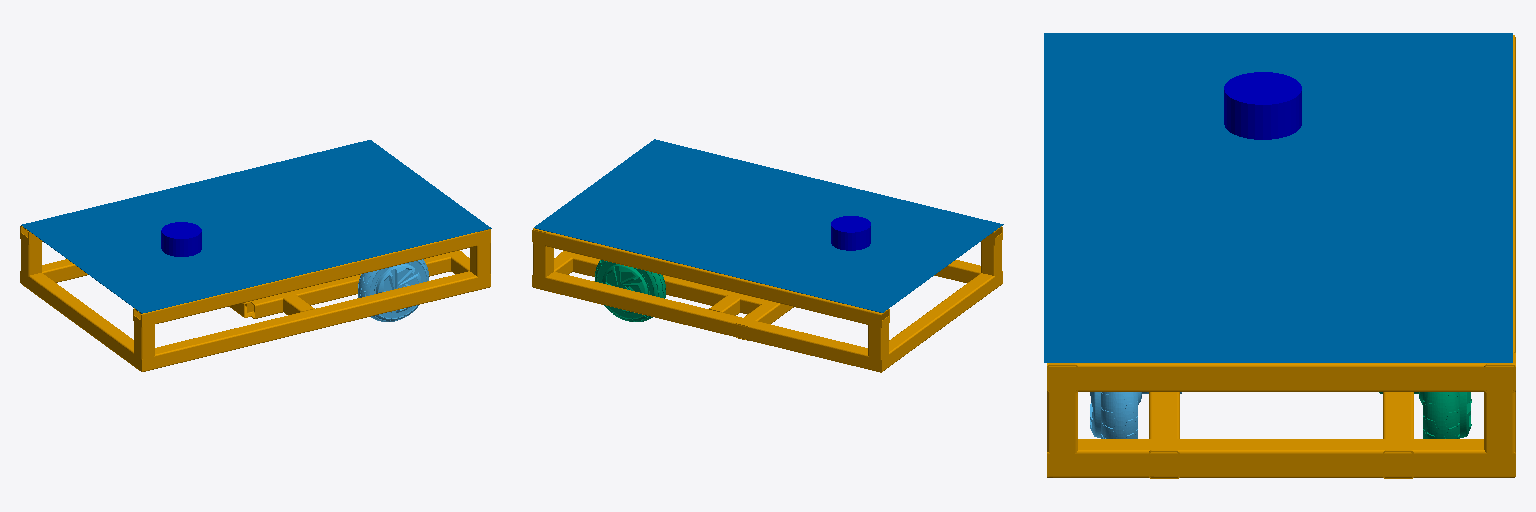
URDF robot description (mobile_robot):
<?xml version="1.0"?>

<robot name="mobile_robot">

<!--   <link name="base_link">
        <visual>
        <origin rpy="0 0 0" xyz="0 0 0"/>
        <geometry>
            <cylinder length="0.02" radius="0.15"/>
        </geometry>
        <material name="yellow">
        	<color rgba="1 1 1 1"/>
        </material>
        </visual>	 -->
<link name="base_link">
    <visual>
      <origin xyz="0 0 0.05" rpy="0 0 0"/>
      <geometry>
        <mesh filename="package://ai/mesh/AMR/Assembly1.stl" scale="0.001 0.001 0.001"/>
      </geometry>
      <!-- <material name="light_black"/> -->
    </visual>

    <collision>
      <origin xyz="0 0 0.05" rpy="0 0 0"/>
      <geometry>
        <mesh filename="package://ai/mesh/AMR/Assembly1.stl" scale="0.001 0.001 0.001"/>
      </geometry>
    </collision>

    <inertial>
      <origin xyz="0 0 0" rpy="0 0 0"/>
      <mass value="15"/>
      <inertia ixx="0.1" ixy="0" ixz="0"
               iyy="0.1" iyz="0"
               izz="0.1" />
    </inertial>
  </link>
<gazebo reference="base_link">
    <material>Gazebo/DarkGrey</material>
  </gazebo>
  <!-- <link name="base_footprint"/>

  <joint name="base_joint" type="fixed">
    <parent link="base_footprint"/>
    <child link="base_link"/>
    <origin xyz="0.0 0.0 0.0" rpy="0 0 0"/>
  </joint> -->

  <link name="wheel_left_link">
    <visual>
      <origin xyz="0 0 0" rpy="0 0 -1.570"/>
      <geometry>
        <mesh filename="package://ai/mesh/AMR/aa.stl" scale="0.001 0.001 0.001"/>
      </geometry>
      <material name="dark"/>
    </visual>

    <collision>
      <origin xyz="0 0 0" rpy="0 0 -1.570"/>
      <geometry>
        <mesh filename="package://ai/mesh/AMR/aa.stl" scale="0.001 0.001 0.001"/>
      </geometry>
    </collision>

    <inertial>
      <origin xyz="0 0 0" />
      <mass value="5" />
      <inertia ixx="0.1" ixy="0" ixz="0"
               iyy="0.1" iyz="0"
               izz="0.1" />
      </inertial>
  </link>
  <joint name="wheel_left_joint" type="continuous">
    <parent link="base_link"/>
    <child link="wheel_left_link"/>
    <origin xyz="0 -0.155 0.03" rpy="0 0 0"/>
    <axis xyz="0 1 0"/>
  </joint>

    <link name="wheel_right_link">
    <visual>
      <origin xyz="0 0 0" rpy="0 0 1.570"/>
      <geometry>
        <mesh filename="package://ai/mesh/AMR/aa.stl" scale="0.001 0.001 0.001"/>
      </geometry>
      <material name="dark"/>
    </visual>

    <collision>
      <origin xyz="0 0 0" rpy="0 0 1.570"/>
      <geometry>
        <mesh filename="package://ai/mesh/AMR/aa.stl" scale="0.001 0.001 0.001"/>
      </geometry>
    </collision>

    <inertial>
      <origin xyz="0 0 0" />
      <mass value="5" />
      <inertia ixx="0.1" ixy="0" ixz="0"
               iyy="0.1" iyz="0"
               izz="0.1" />
      </inertial>
  </link>
  <joint name="wheel_right_joint" type="continuous">
    <parent link="base_link"/>
    <child link="wheel_right_link"/>
    <origin xyz="0 0.2 0.03" rpy="0 0 0"/>
    <axis xyz="0 1 0"/>
  </joint>

  <link name="caster">
  <visual>
  <origin xyz="0 0 0" rpy="0 0 1.570"/>
      <geometry>
          <mesh filename="package://ai/mesh/AMR/caster.stl" scale="0.0004 0.0004 0.0004"/>
      </geometry>
      <material name="dark"/>
  </visual>
  <collision>
      <origin xyz="0 0 0" rpy="0 0 1.570"/>
      <geometry>
          <mesh filename="package://ai/mesh/AMR/caster.stl" scale="0.0004 0.0004 0.0004"/>
      </geometry>
    </collision>

    <inertial>
      <origin xyz="0 0 0" />
      <mass value="5" />
      <inertia ixx="0.1" ixy="0" ixz="0"
               iyy="0.1" iyz="0"
               izz="0.1" />
      </inertial>

  </link>
  <joint name="wheel_caster_joint" type="fixed">
    <parent link="base_link"/>
    <child link="caster"/>
    <origin xyz="-0.67 0.025 0.03" rpy="0 -1.57 0"/>
    <axis xyz="0 1 0"/>
  </joint>
  <!--box -->
  <link name="box">
    <visual>
      <origin xyz="-0.275 0.02 0.05" rpy="0 0 0"/>
      <geometry>
        <box size="1 0.6 0.001"/>
      </geometry>
    </visual>
  </link>

    <collision>
      <origin xyz="0 0 0.05" rpy="0 0 0"/>
      <geometry>
        <box size="0.06 0.1 0.001"/>
      </geometry>
    </collision>

    <inertial>
      <origin xyz="0 0 0" />
      <mass value="1" />
      <inertia ixx="0.1" ixy="0" ixz="0"
               iyy="0.1" iyz="0"
               izz="0.1" />
      </inertial>
    
  <joint name="base_box" type="fixed">
  <parent link="base_link"/>
  <child link="box"/>
  <origin xyz="0 0.0 0.12" rpy="0 0 0"/>
  <axis xyz="0 1 0"/>
  </joint>
  <!--laser scan -->
  <link name="laser_scan">
	<visual>
		<origin xyz="0 0 0.05" rpy="0 0 0"/>
		<geometry>
			<cylinder length="0.1" radius="0.05"/>
		</geometry>
		<material name = "blue">
			 <color rgba="0.0 0.0 0.8 1.0"/>
		</material>
	</visual>
</link> 
<joint name="laser_base_link" type="fixed">
	<origin xyz="-0.5 0 0" rpy="0 0 0"/>
	<parent link="box"/>
	<child link="laser_scan"/>
</joint>

  <gazebo>
	<plugin name="differential_drive" filename="libgazebo_ros_diff_drive.so">
		<robotNamespace>/</robotNamespace>
		<commandTopic>cmd_vel</commandTopic>
		<odometryTopic>odom</odometryTopic>
		<odometryFrame>odom</odometryFrame>
		<robotBaseFrame>base_link</robotBaseFrame>
		<publishWheelTF>false</publishWheelTF>
		<publishOdomTF>true</publishOdomTF>
		<publishWheelJointState>false</publishWheelJointState>
		<legacyMode>true</legacyMode>

		<wheelSeparation>0.167</wheelSeparation>
		<wheelDiameter>0.06056</wheelDiameter>
		<wheelAcceleration>1.0</wheelAcceleration>
		<wheelTorque>20.0</wheelTorque>
		<updateRate>10.0</updateRate>
		<leftJoint>wheel_left_joint</leftJoint>
		<rightJoint>wheel_right_joint</rightJoint>
	</plugin>
</gazebo>

 



<!-- <link name= "_wheel">
    <visual>
     	<origin rpy= "0 0 0" xyz= "0 0 0" />
     	<geometry>
	 		<mesh filename="package://ai/mesh/AMR/Assembly.stl"/>
		</geometry>
     		<material name= "darkgrey">
				<color rgba="1 1 1 1"/>	
			</material>
    </visual>
</link>  -->
    
 <!--   <link name="left_wheel">
    	<visual>
    	<origin rpy="0 1.57 0" xyz="0 0 0"/>
    	<geometry>
    		<cylinder length="0.02" radius="0.04"/>
    	</geometry>
    	</visual>
    </link>
    
   <link name="right_wheel">
    	<visual>
    	<origin rpy="0 1.57 0" xyz="0 0 0"/>
    	<geometry>
    		<cylinder length="0.02" radius="0.04"/>
    	</geometry>
    	</visual>
    </link> 
    
    <link name="caster" >
    	<visual>
    	<origin rpy="0 1.57 0" xyz="0 0 0"/>
    	<geometry>
    		<sphere radius="0.02" />
    	</geometry>
    	</visual>
    </link>
    
    <joint name="joint1" type="continuous" >
    	<origin xyz="-0.15 0 0.0"/>
    	<parent link="base_link"/>
    	<child link="left_wheel"/>
    	<axes xyz="1 0 0"/>
    	<limit effort="300" velocity="0.5" lower="-3.14" upper="3.14"/>
    </joint>  
    
    <joint name="joint2" type="continuous" >
    	<origin xyz="0.15 0 0" />
    	<parent link="base_link" />
    	<child link="right_wheel"/>
    	<axes xyz="1 0 0"/>
    	<limit effort="300" velocity="0.5" lower="-3.14" upper="3.14"/>
    </joint>
      
     <joint name="joint3" type="continuous" >
    	<origin xyz="0.0 0.12 -0.02" />
    	<parent link="base_link" />
    	<child link="caster"/>
    	<axes xyz="0 0 0"/>
    	<limit effort="300" velocity="0.5" lower="-3.14" upper="3.14"/>
    </joint> -->
    
</robot>

--- Facts derived from the render (not from the file) ---
3 views of the same robot in one strip: view 1: azimuth 30°, elevation 25°; view 2: azimuth 150°, elevation 25°; view 3: azimuth 270°, elevation 25° (orthographic).
Robot: mobile_robot — 6 links, 5 joints (2 continuous, 3 fixed); root link base_link; default pose: all joints at 0.
Links seen in each view (by area): view 1: box, base_link, wheel_left_link, laser_scan; view 2: box, base_link, wheel_right_link, laser_scan; view 3: box, base_link, laser_scan, wheel_right_link, wheel_left_link.
Boxes of the visible links, x1,y1,x2,y2 form: box: [21, 140, 491, 313]; base_link: [20, 226, 490, 371]; wheel_left_link: [358, 259, 428, 321]; laser_scan: [161, 222, 201, 256]; box: [534, 139, 1003, 312]; base_link: [532, 226, 1002, 372]; wheel_right_link: [595, 260, 665, 321]; laser_scan: [831, 216, 870, 250]; box: [1044, 33, 1512, 362]; base_link: [1047, 35, 1515, 478]; laser_scan: [1224, 72, 1301, 139]; wheel_right_link: [1379, 392, 1471, 438]; wheel_left_link: [1090, 392, 1181, 438].
Bounding box of the posed robot: 1 × 0.6034 × 0.2884 m (x, y, z).
Meshes: 3 distinct files referenced, 3 mesh visuals loaded (2 binary STL); not drawn: 1 (reference not matched to a file when rendering).